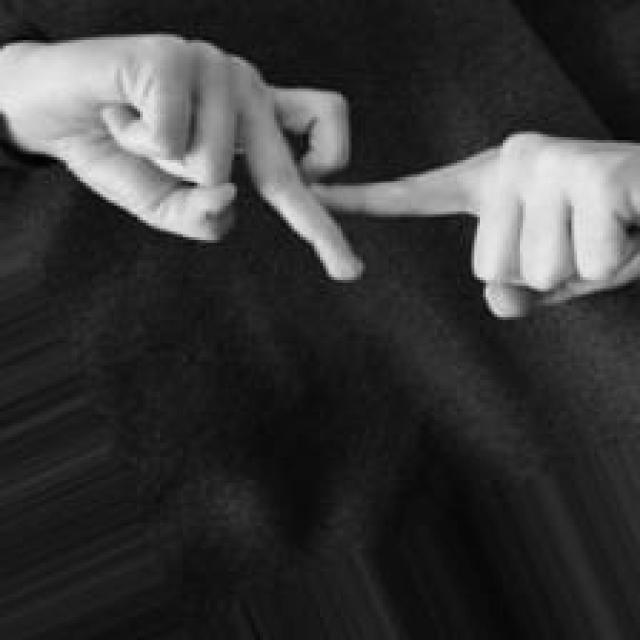R: (5, 32, 640, 329)
